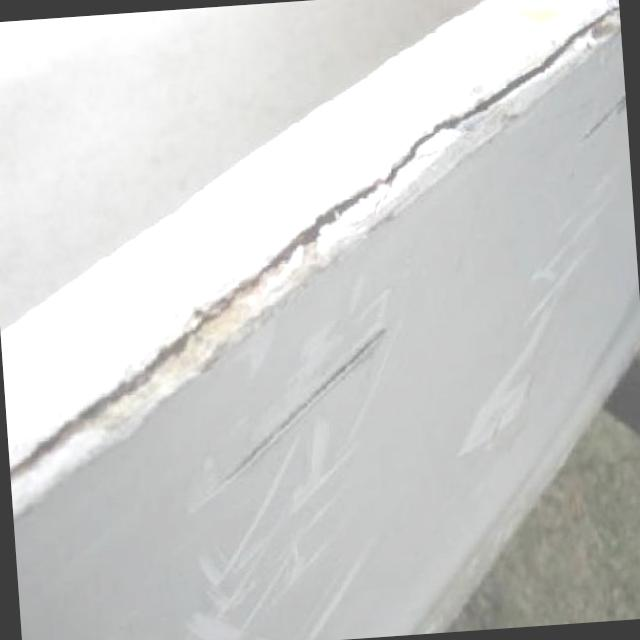crack: (3, 326, 198, 481), (181, 215, 339, 326), (330, 134, 446, 215), (434, 70, 542, 138), (534, 10, 622, 70)
